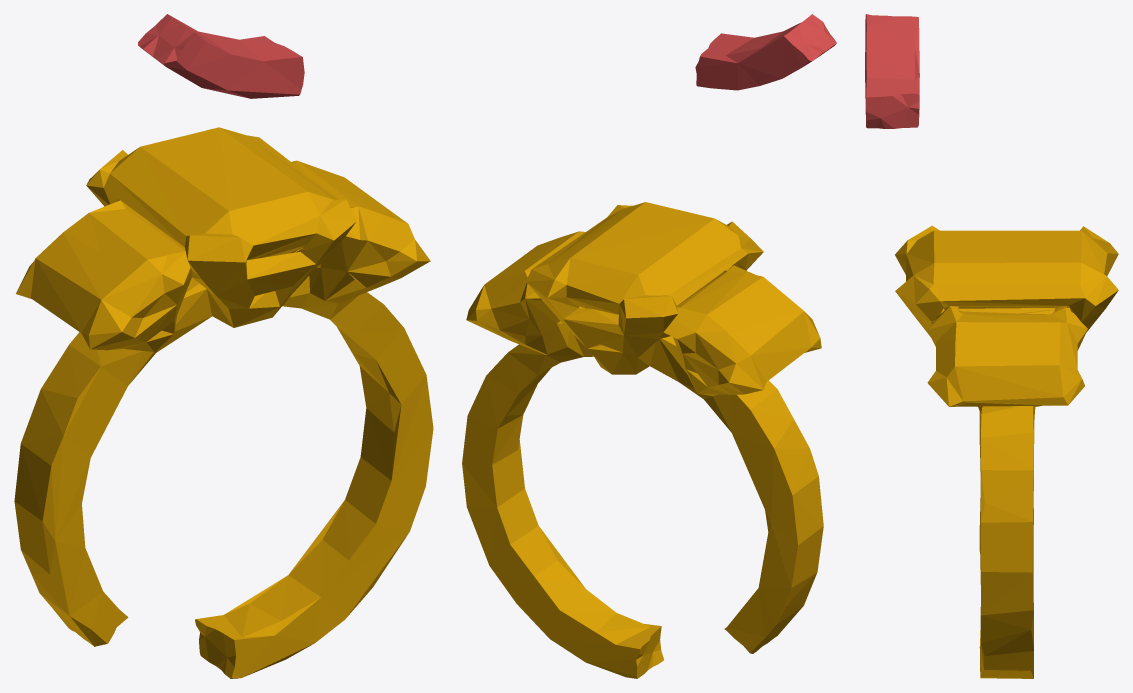
File: fractured_37_2pcs_transformed.glb
3 renders of one model, left to right at view 1: azimuth 30°, elevation 25°; view 2: azimuth 150°, elevation 25°; view 3: azimuth 270°, elevation 25°, orthographic. The views are drawn at different scales.
Parts seen in each view (by area): view 1: piece_0.obj, piece_1.obj; view 2: piece_0.obj, piece_1.obj; view 3: piece_0.obj, piece_1.obj.
Part boxes in pixels (left/top/right/bottom): piece_0.obj: left=14, top=127, right=433, bottom=678; piece_1.obj: left=138, top=14, right=304, bottom=98; piece_0.obj: left=462, top=202, right=823, bottom=678; piece_1.obj: left=695, top=14, right=836, bottom=90; piece_0.obj: left=895, top=225, right=1118, bottom=678; piece_1.obj: left=865, top=14, right=919, bottom=128.
Size of the model in its own units: 0.8178 by 1.45 by 0.5533.
